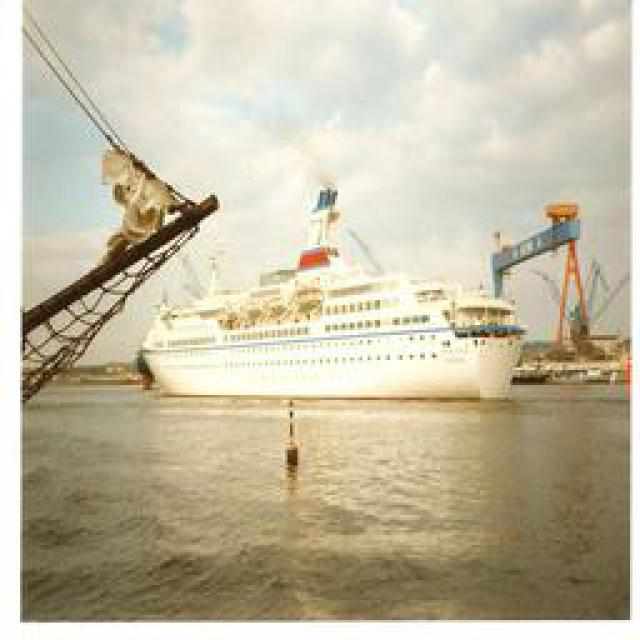Ship: (140, 256, 533, 404)
